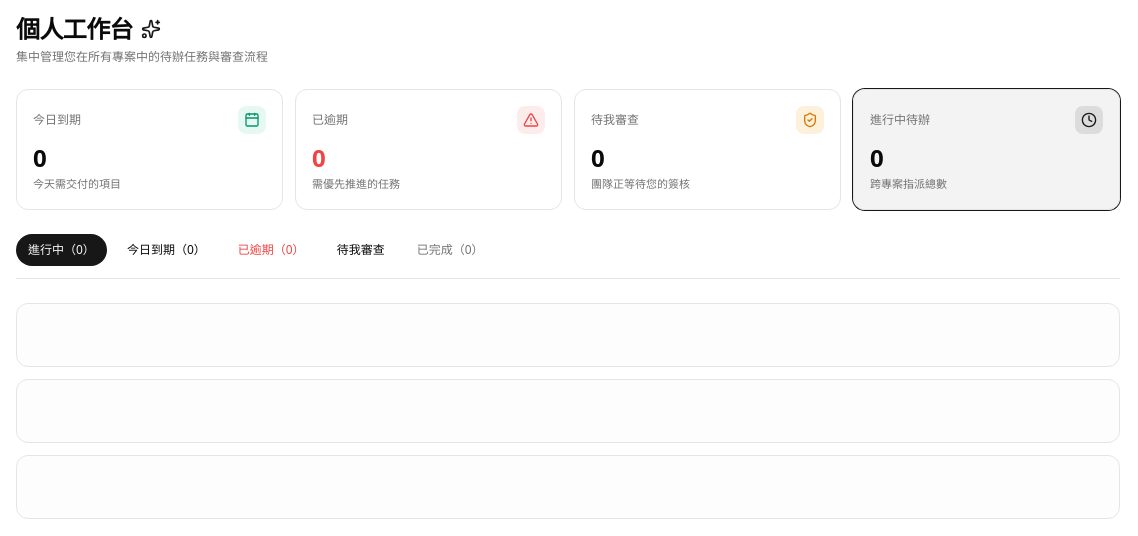
Test: MyTasksPage › switches to reviews tab and shows pending reviews
Check: the text "效能優化 PR" is not shown
Click the button "待我審查 0 團隊正等待您的簽核": (615, 120) [574,89,841,210]
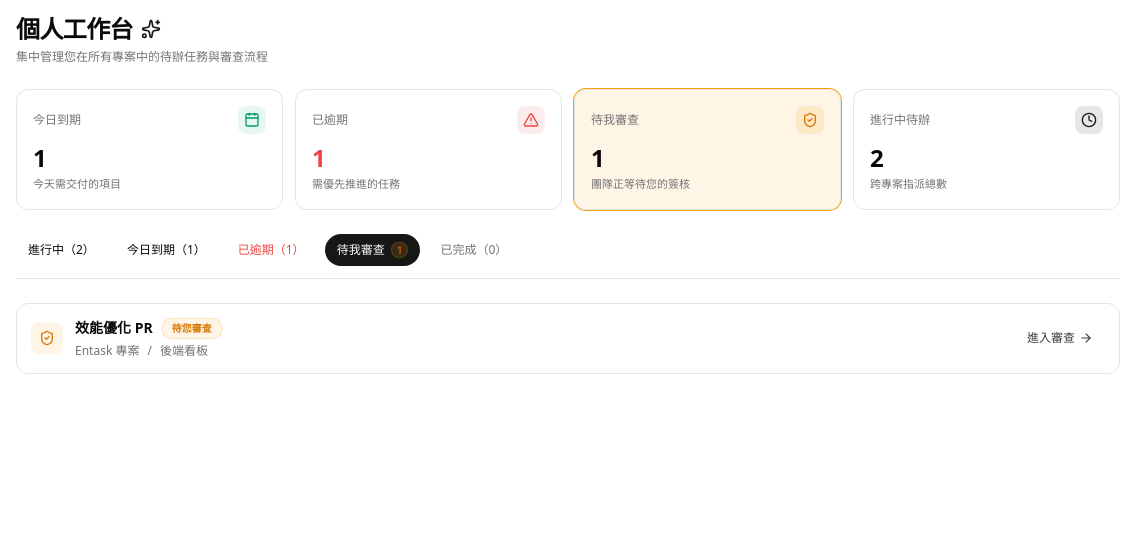
Check: the text "效能優化 PR" is shown, box [75,318,153,338]
Check: the text "待您審查" is shown, box [161,318,223,338]
